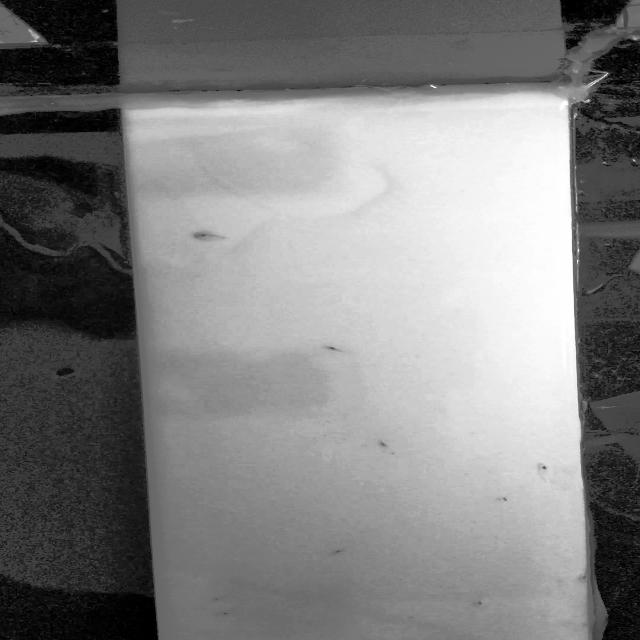shrimp: (320, 340, 344, 354), (374, 439, 399, 449), (190, 232, 220, 240), (210, 609, 236, 618), (535, 463, 555, 472), (470, 600, 490, 608), (575, 572, 591, 582), (209, 595, 227, 603), (498, 495, 510, 504), (332, 548, 346, 554)
